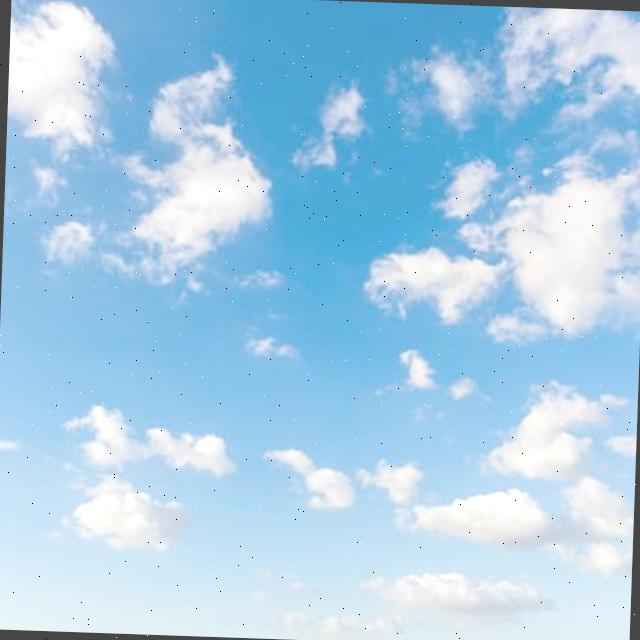Cc: (1, 21, 640, 546)
